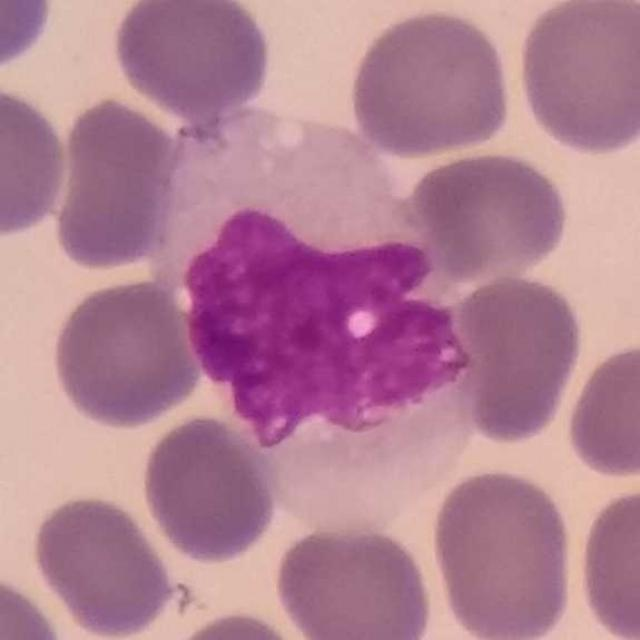mono: (150, 98, 484, 544)
